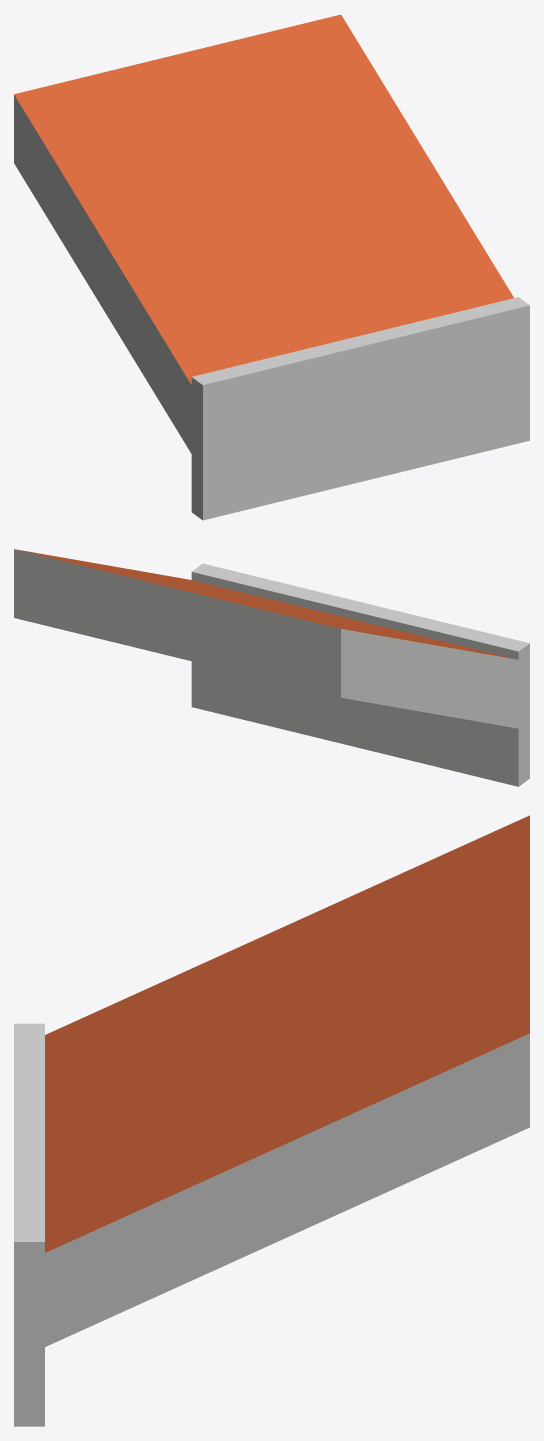
The model's file is telhado_beiral_i50_0_5m.glb.
3 renders of one model, top to bottom at view 1: azimuth 30°, elevation 25°; view 2: azimuth 150°, elevation 25°; view 3: azimuth 270°, elevation 25°, orthographic. The views are drawn at different scales.
Parts seen in each view (by area): view 1: telhado_beiral_i50_0_5m; view 2: telhado_beiral_i50_0_5m; view 3: telhado_beiral_i50_0_5m.
Part boxes in pixels (x1,y1,x2,y2): telhado_beiral_i50_0_5m: [14, 14, 529, 520]; telhado_beiral_i50_0_5m: [14, 549, 529, 786]; telhado_beiral_i50_0_5m: [14, 815, 529, 1426].
Size of the model in its own units: 0.5 by 0.4206 by 0.5.
